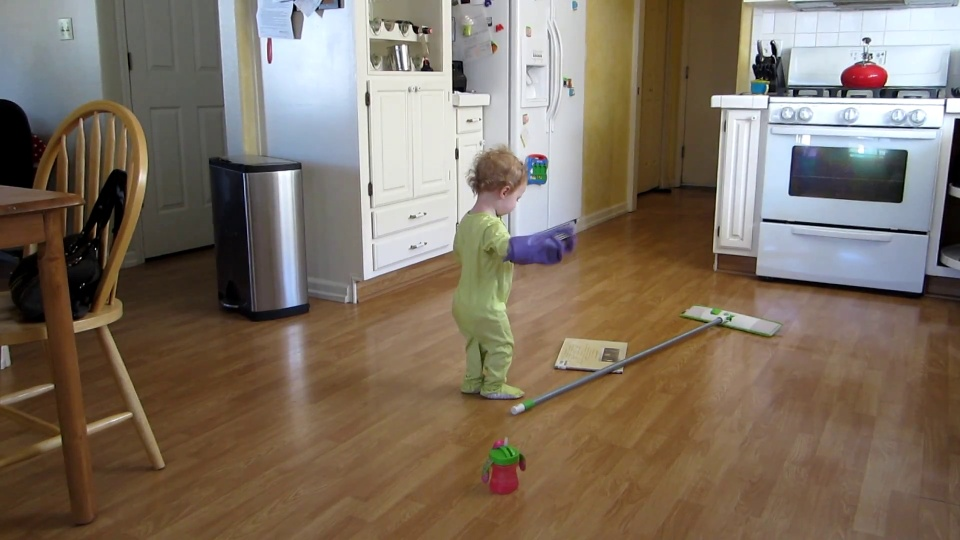person: (445, 142, 574, 409)
